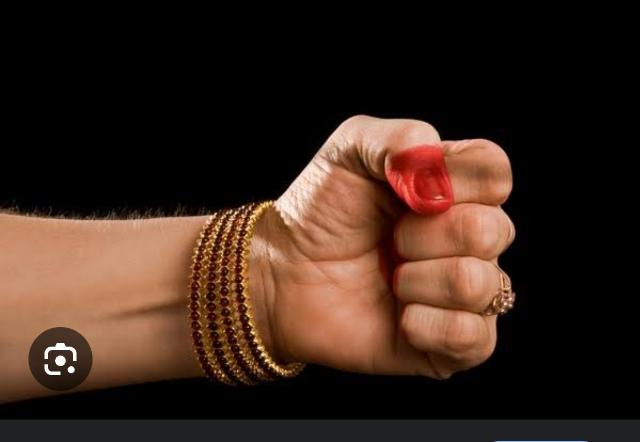mushti: (247, 116, 514, 379)
